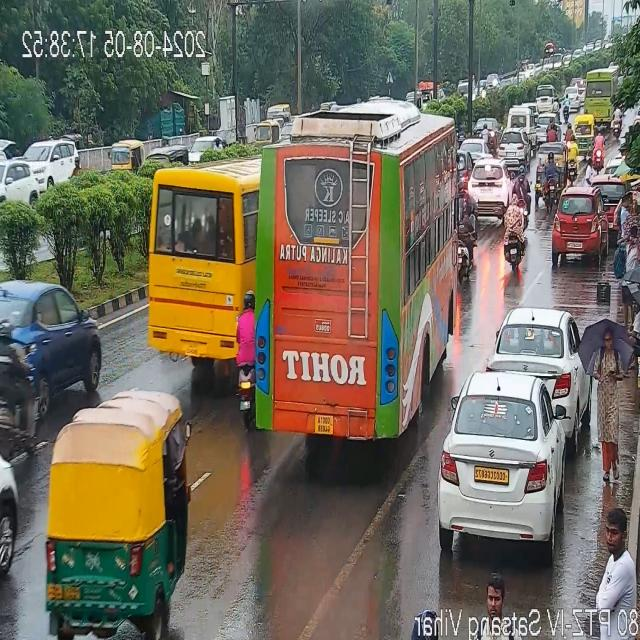2-wheelers: (0, 324, 52, 456), (234, 279, 254, 442), (540, 152, 564, 206), (458, 202, 472, 278), (507, 198, 522, 268), (566, 135, 578, 179), (514, 166, 529, 198), (50, 627, 86, 640), (482, 128, 496, 156), (596, 129, 604, 169), (612, 104, 620, 136)
auto: (46, 386, 192, 640), (107, 136, 143, 170), (568, 114, 596, 146), (562, 90, 570, 120)
bus: (255, 99, 459, 433), (138, 138, 254, 362), (582, 68, 618, 121)
car: (434, 372, 566, 544), (1, 277, 99, 388), (492, 306, 584, 418), (550, 188, 606, 272), (0, 444, 18, 590), (463, 161, 509, 218), (498, 130, 532, 164), (533, 80, 555, 114), (506, 105, 532, 130), (548, 119, 558, 145)
pedestrian: (597, 321, 616, 491), (598, 508, 634, 596), (620, 228, 636, 328), (479, 577, 511, 611), (628, 300, 640, 357), (618, 192, 631, 236)
truck: (0, 138, 82, 204)
